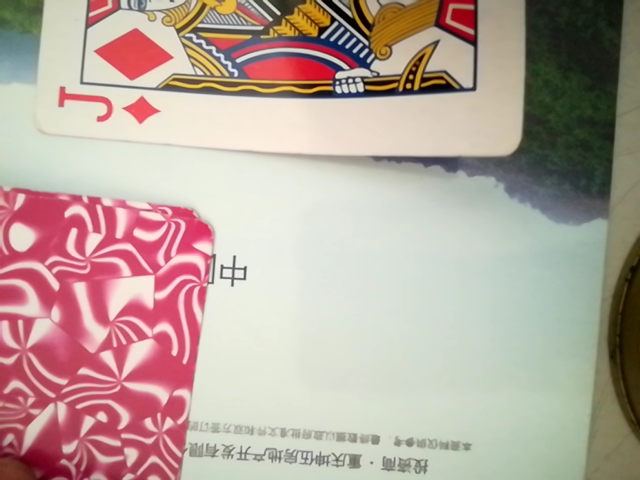fk j: (19, 0, 526, 164)
